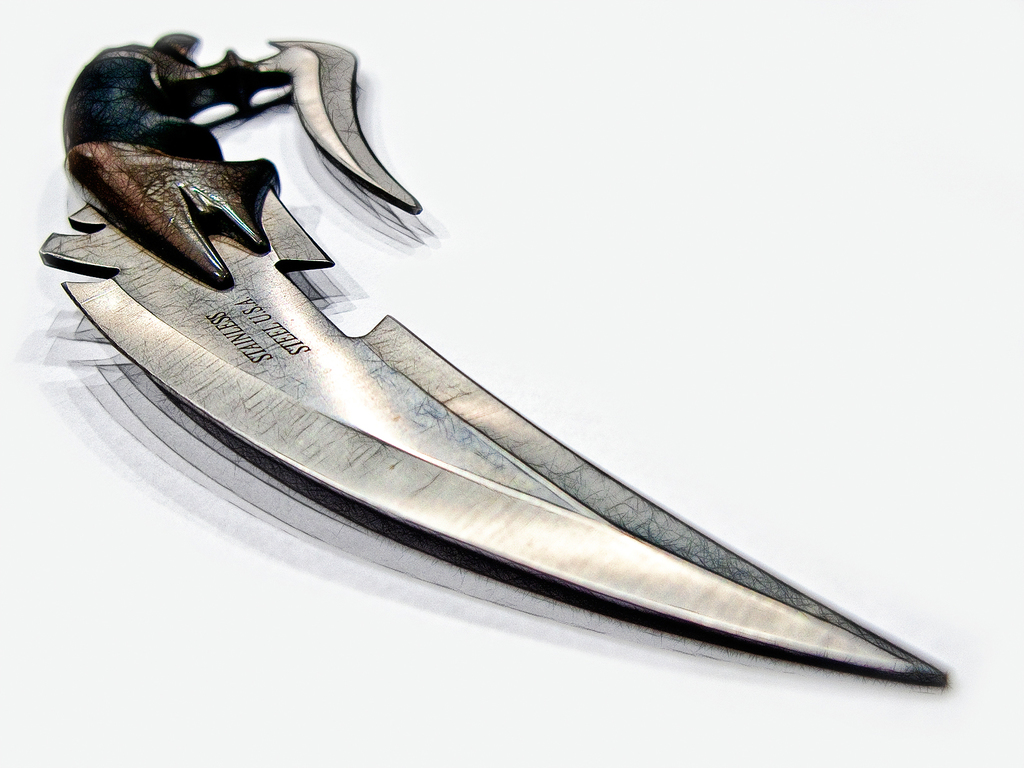knife: (39, 33, 947, 687)
